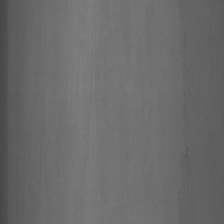silk_spot: (176, 11, 196, 209)
